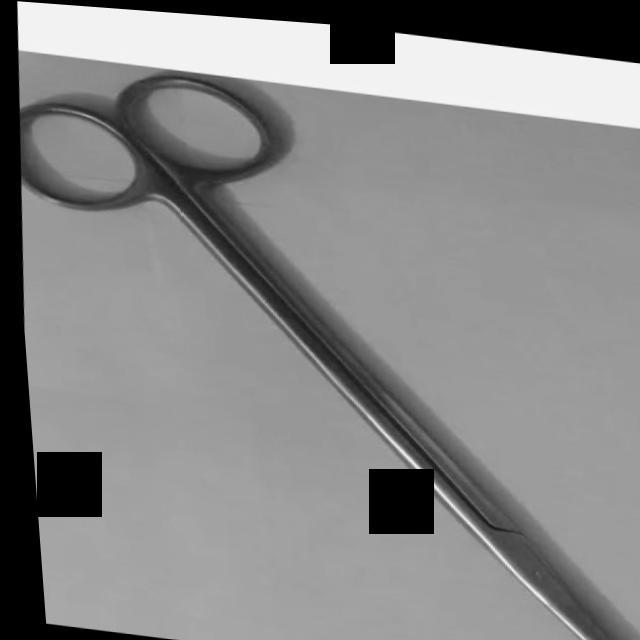Metzenbaum Sciccors: (3, 51, 640, 640)
